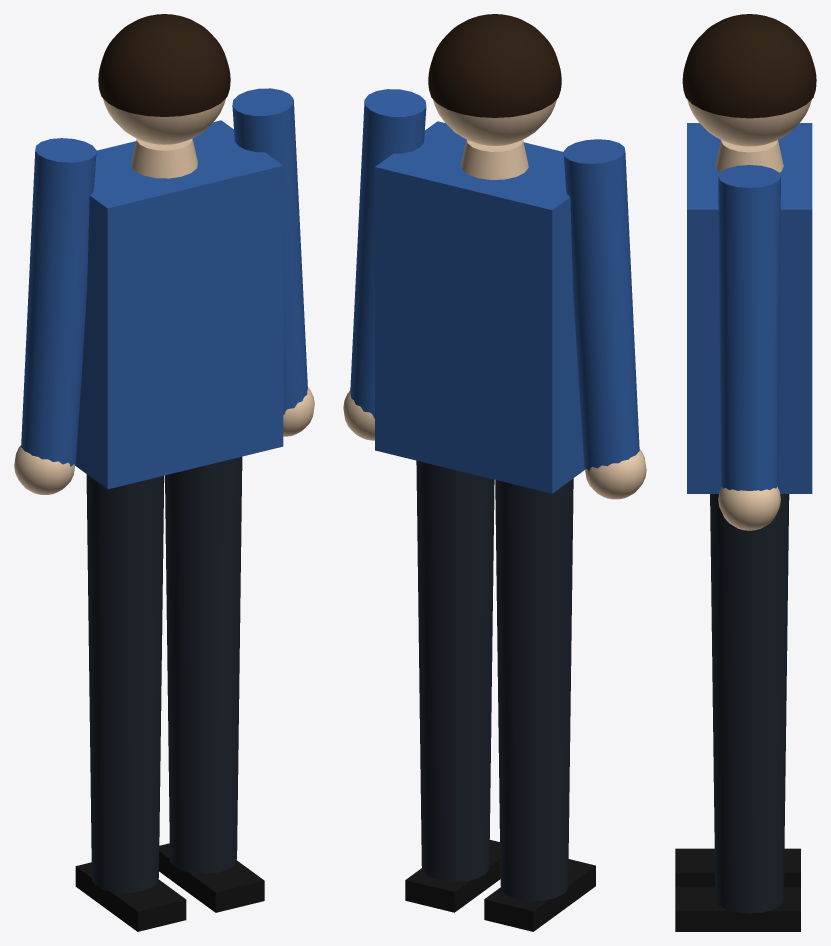
Rendered from human.glb.
3 renders of one model, left to right at view 1: azimuth 30°, elevation 25°; view 2: azimuth 150°, elevation 25°; view 3: azimuth 270°, elevation 25°, orthographic.
Parts seen in each view (by area): view 1: human; view 2: human; view 3: human.
Boxes of the visible parts, left/top/right/bottom form: human: left=14, top=14, right=314, bottom=931; human: left=343, top=14, right=646, bottom=931; human: left=675, top=14, right=816, bottom=931.
Size of the model in its own units: 0.6 by 1.7 by 0.2473.
